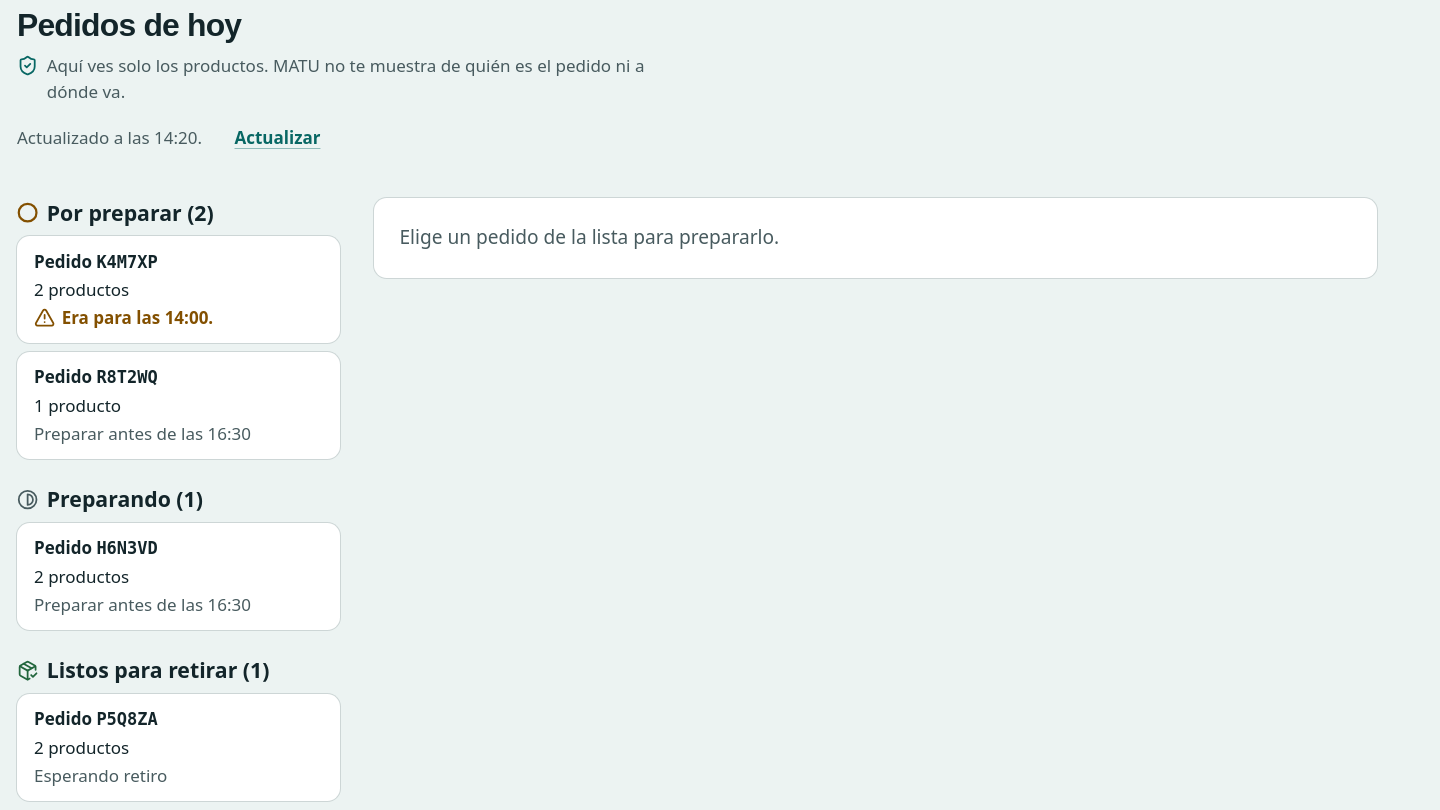
Por preparar › solo lectura, la etiqueta «Por preparar» y «Empezar a preparar», que pasa a preparando con If-Match
The width and height of the screenshot is (1440, 810).
(page scrolled)
Expected: the heading "Por preparar (2)" is shown, [47, 198, 214, 226]
Step 1. Click the button "Pedido R8T2WQ 1 producto Preparar antes de las 16:30" → {"x": 63, "y": 377}, box [17, 352, 340, 459]
(page scrolled)
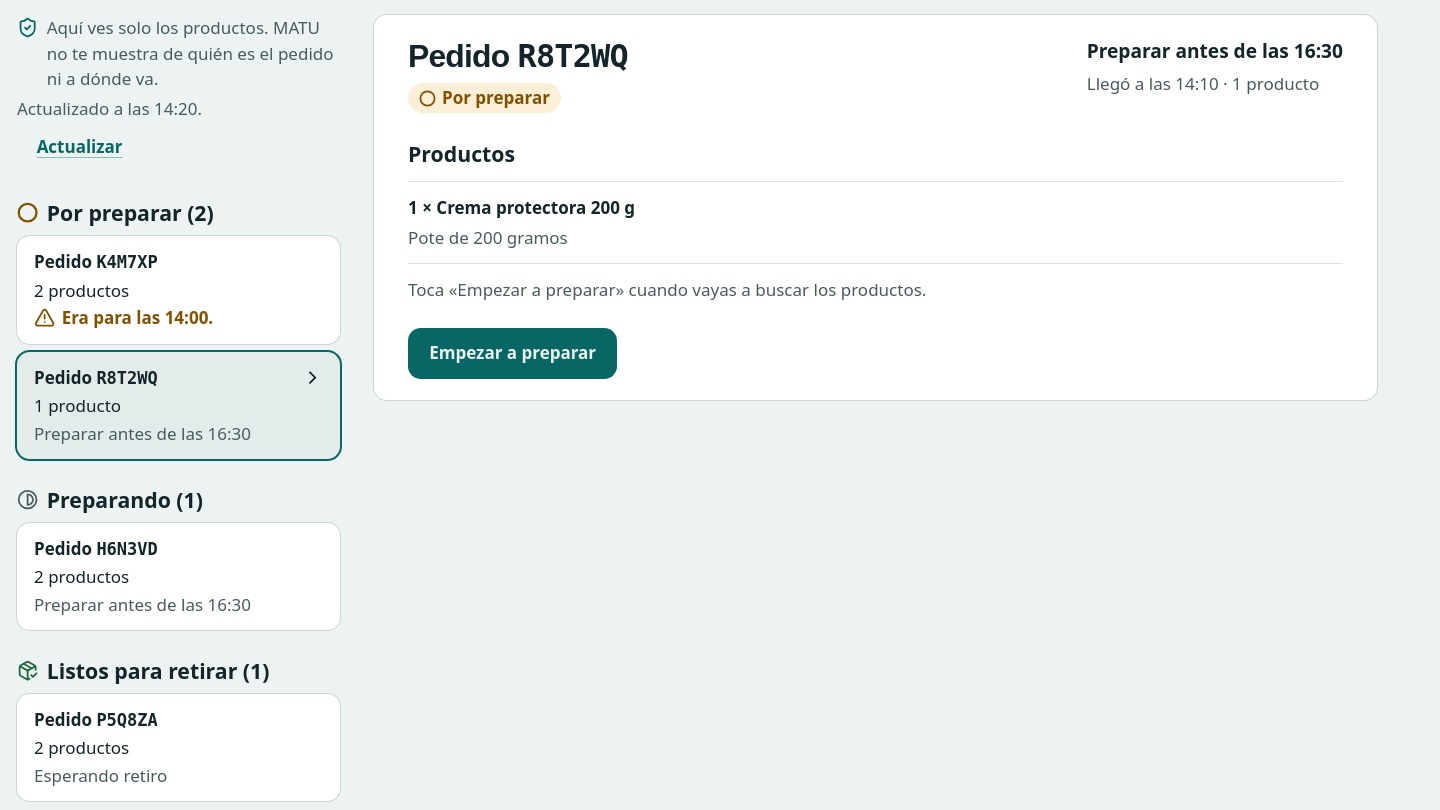
Result: the text "Por preparar" is shown at [408, 83, 560, 113]
Result: the text "Toca «Empezar a preparar» cuando vayas a buscar los productos." is shown at [408, 278, 926, 300]
Step 2. Click the button "Empezar a preparar" → {"x": 513, "y": 353}, box [408, 328, 617, 378]
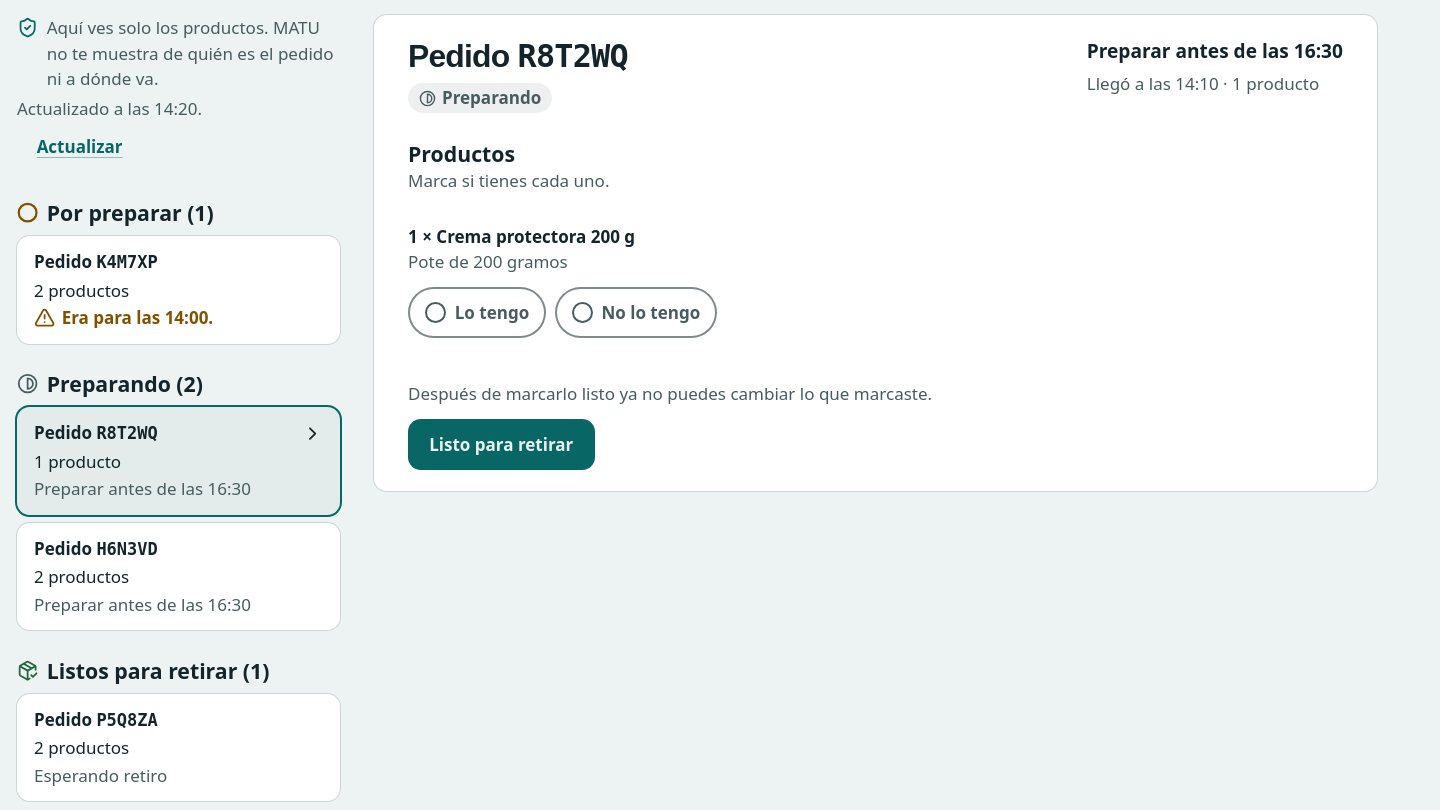
Result: the radio button labelled "Lo tengo" is shown at [408, 287, 546, 338]
